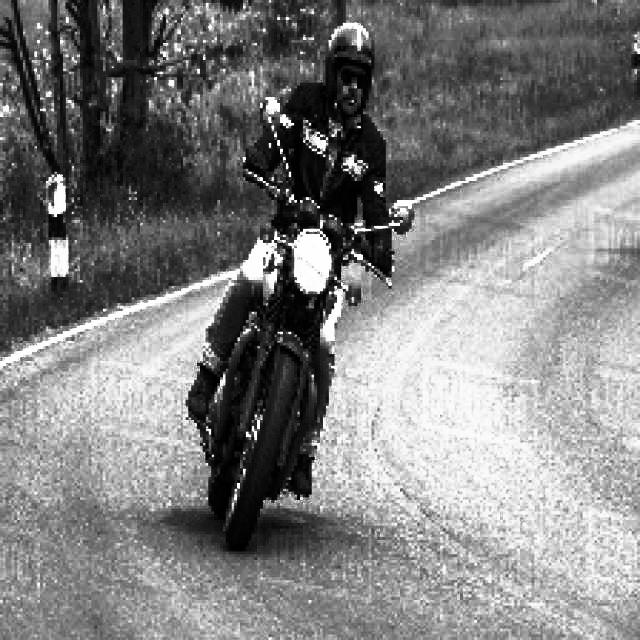Bike: (206, 136, 334, 552)
